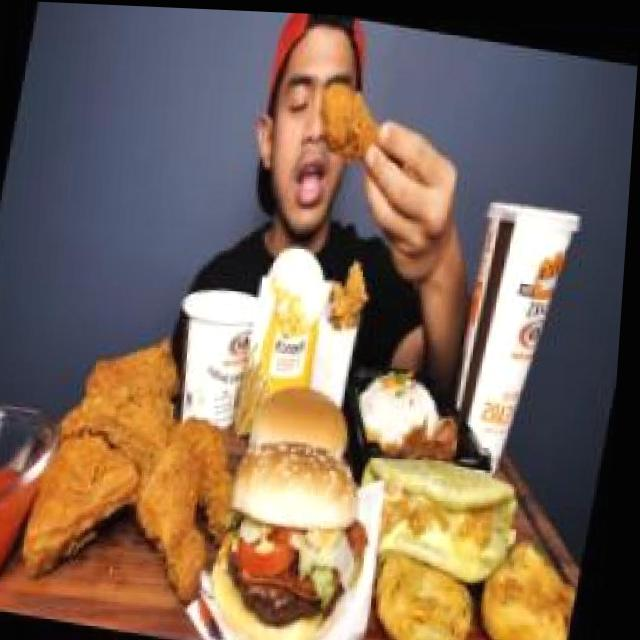AW cola: (430, 151, 606, 461)
cheese burger: (244, 367, 369, 477)
chicken waffle: (310, 246, 391, 359)
crispy corn: (163, 259, 277, 438)
french fries: (248, 252, 332, 375)
fried chicken: (22, 320, 263, 588), (300, 68, 405, 169)
mango chicken pocket: (348, 436, 536, 582)
mozza burger: (199, 418, 397, 640)
perkedel: (354, 524, 504, 640), (479, 520, 592, 640)
